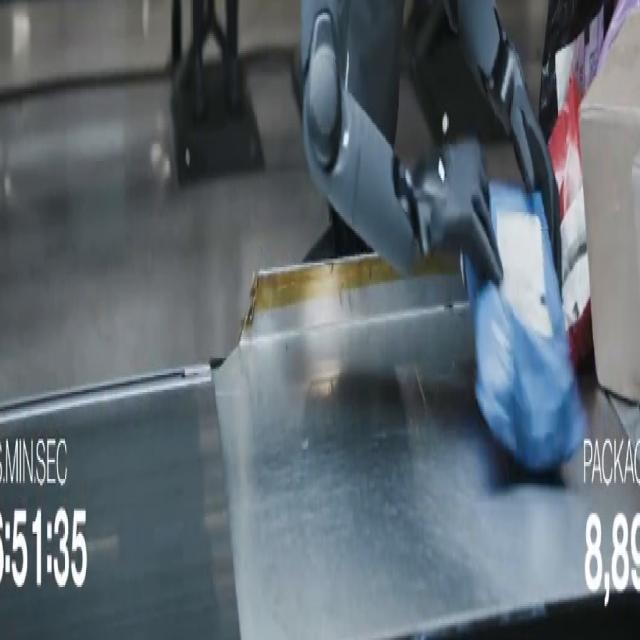package: (464, 183, 585, 472), (580, 11, 639, 400), (548, 75, 592, 368), (539, 0, 615, 139), (598, 0, 639, 72)
